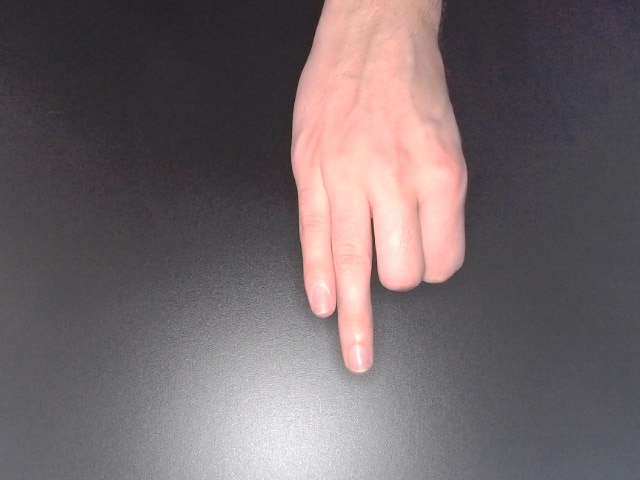n: (286, 1, 471, 379)
